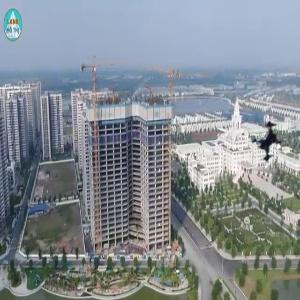drone: (231, 114, 291, 174)
